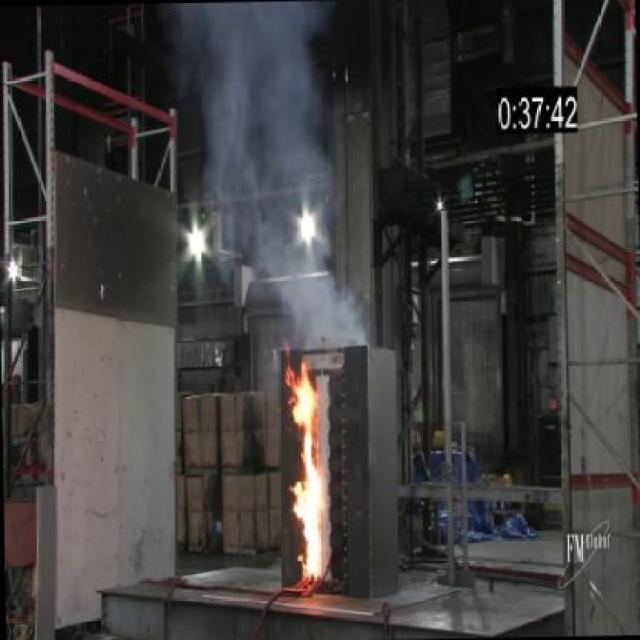fire: (170, 0, 368, 334)
smoke: (276, 342, 336, 590)
